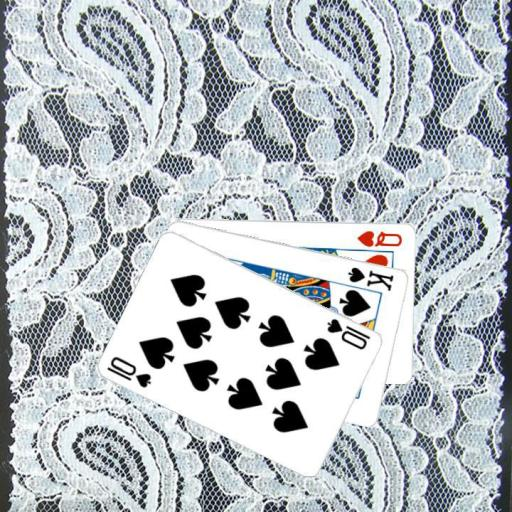10S: (104, 353, 154, 389), (324, 315, 373, 351)
KS: (345, 263, 396, 292)
QH: (354, 227, 404, 248)
